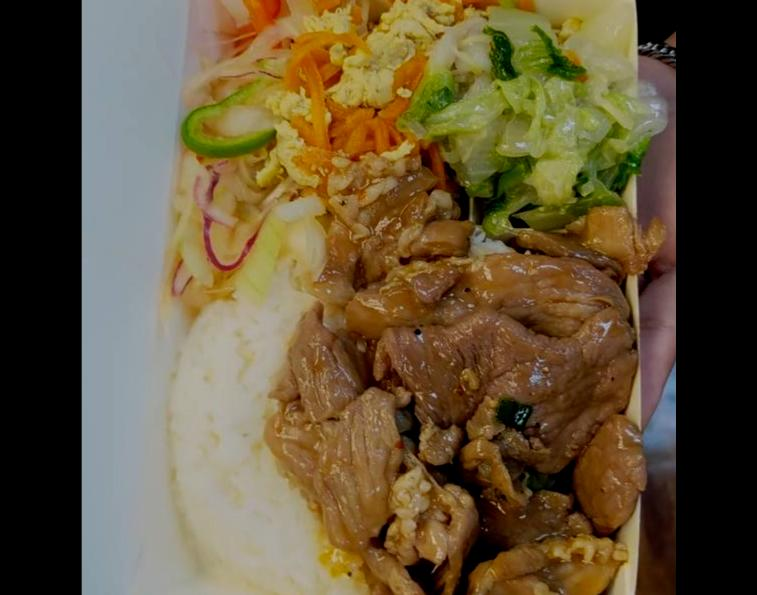big grilled chicken leg: (113, 0, 658, 595)
big herbal chicken leg: (170, 255, 489, 594)
braised fish fillet: (417, 14, 624, 220), (164, 0, 295, 282), (296, 0, 440, 190)
braised pork: (277, 202, 639, 595)
